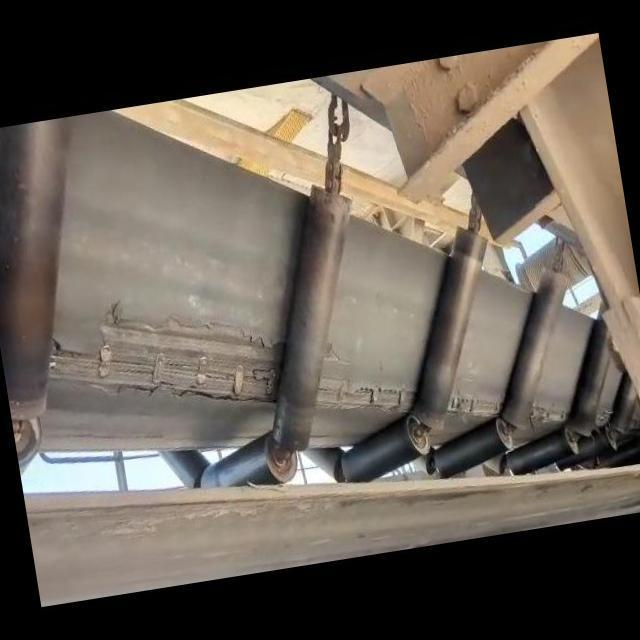Tear: (35, 247, 298, 457), (320, 341, 420, 418), (443, 381, 506, 420), (526, 396, 572, 427)
